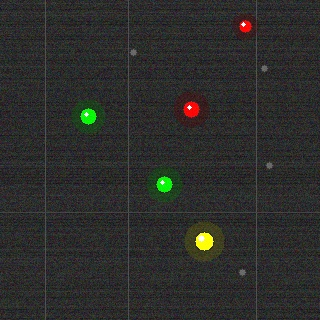green_normal: (78, 106, 98, 126), (154, 174, 174, 194)
red_fault: (181, 99, 201, 119), (237, 18, 253, 34)
yellow_warning: (193, 230, 215, 252)
